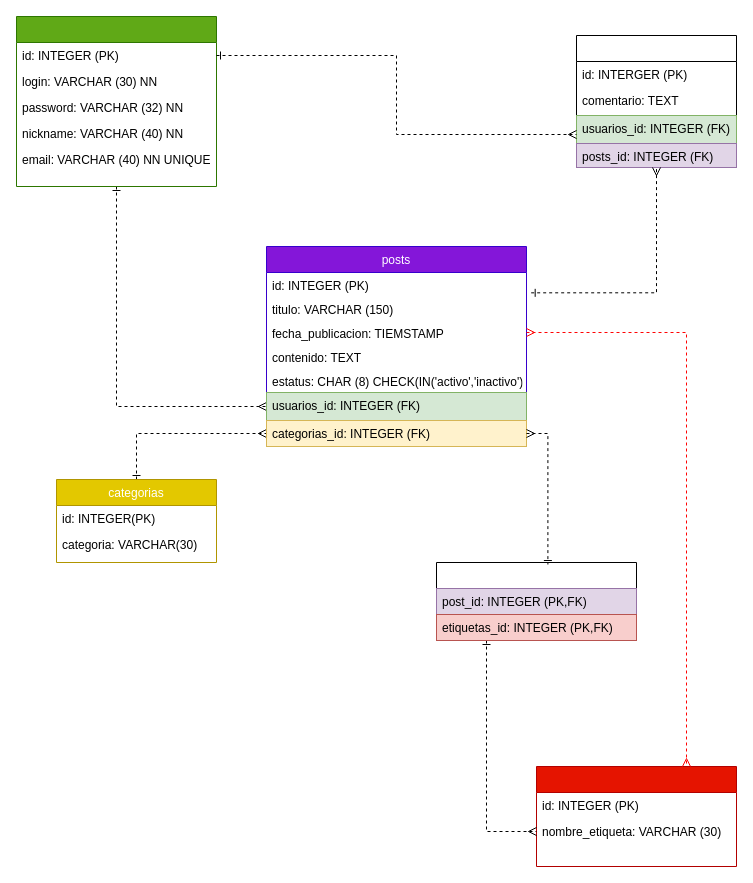
Image size: 753x883. Some labels were removed from this diagram. Each missing label, with the box of its shape:
comentarios: (576, 34, 736, 168)
etiquetas: (536, 766, 736, 866)
post_etiquetas: (436, 562, 636, 640)
usuarios: (16, 16, 216, 186)
